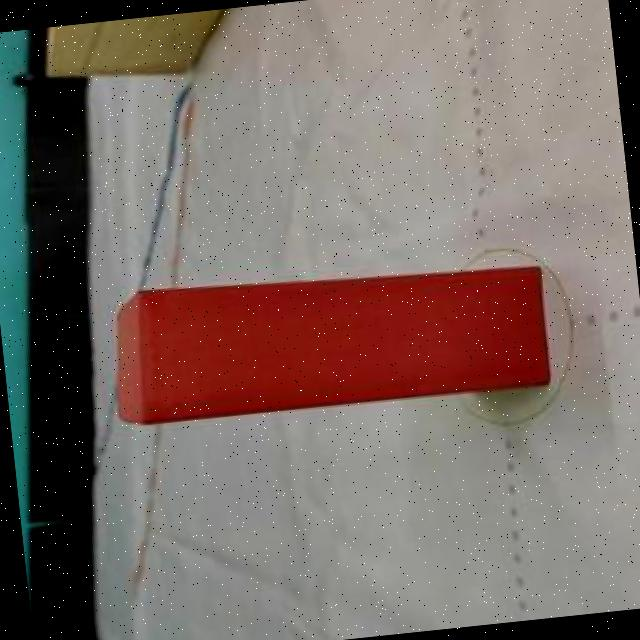redbox: (99, 246, 553, 431)
